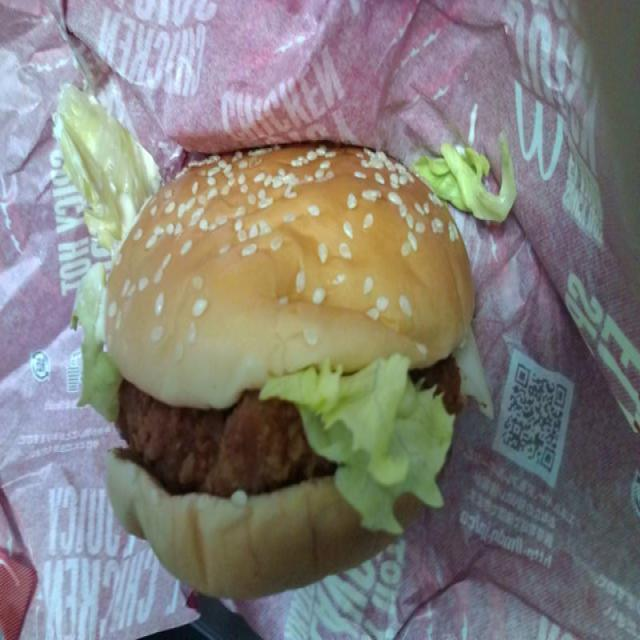Hamburger: (89, 124, 481, 600)
